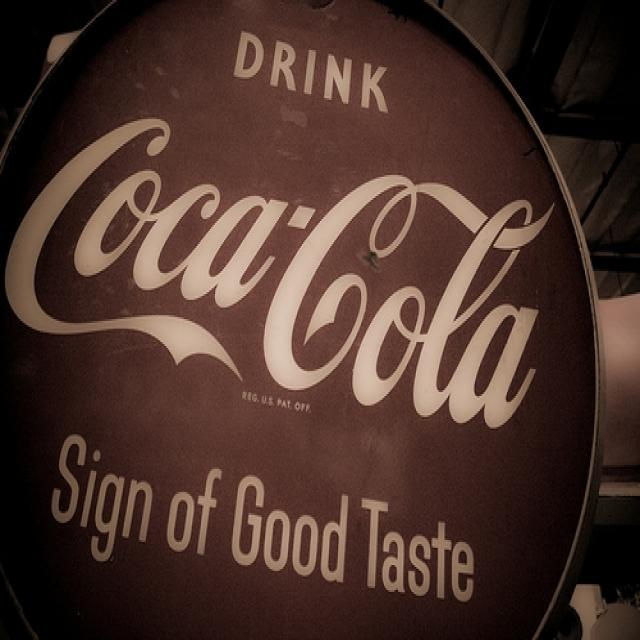cocacola: (2, 107, 564, 443)
